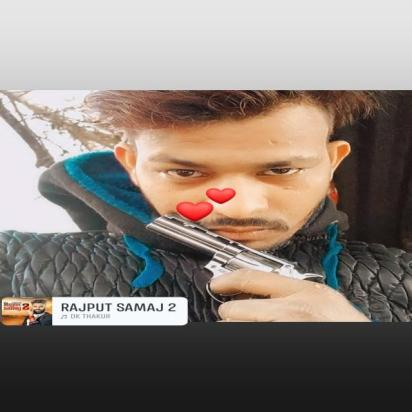Gun: (139, 212, 364, 327)
